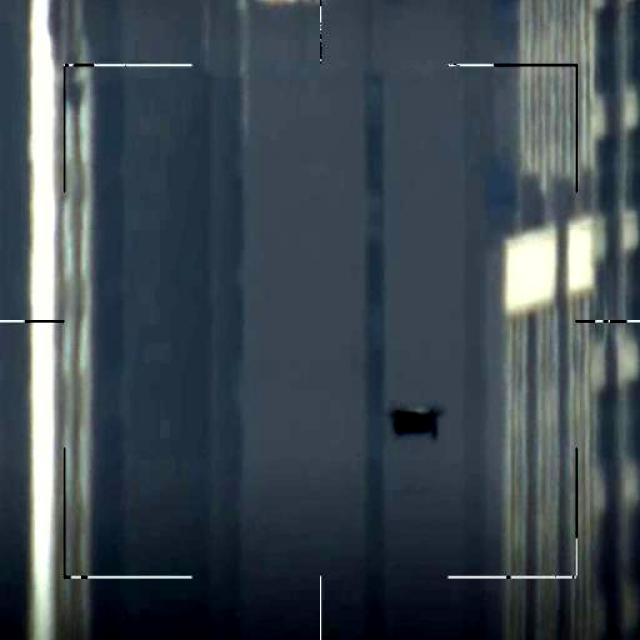bird: (391, 406, 442, 441)
